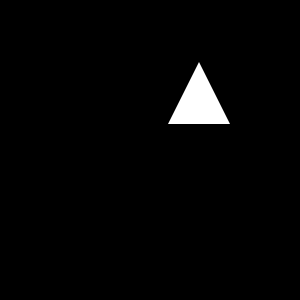triangle: (168, 62, 230, 124)
